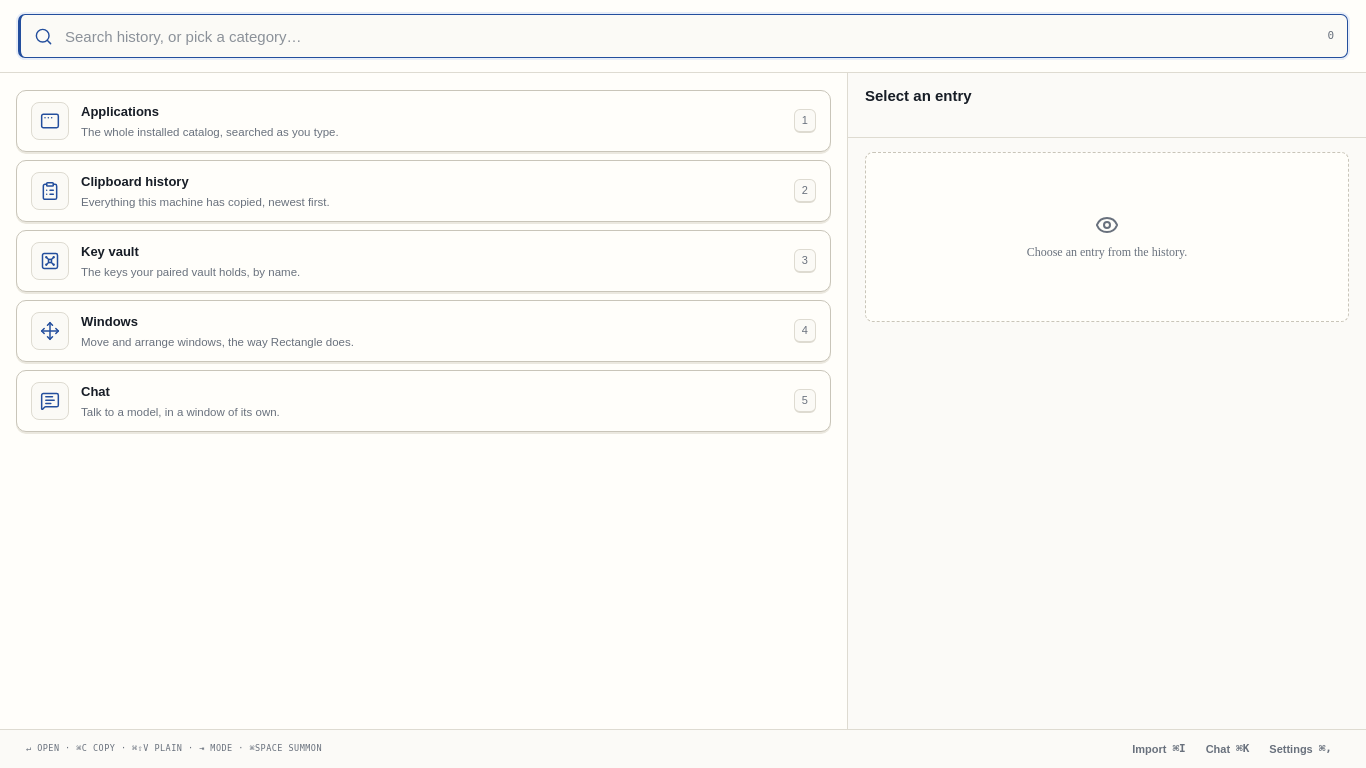
it: the unified palette › opens on its categories, and typing means the history
Typing from home enters the history with the query already carried.
Type "project note" into the search field. click: (685, 36)
box: 65,15 -> 1305,57
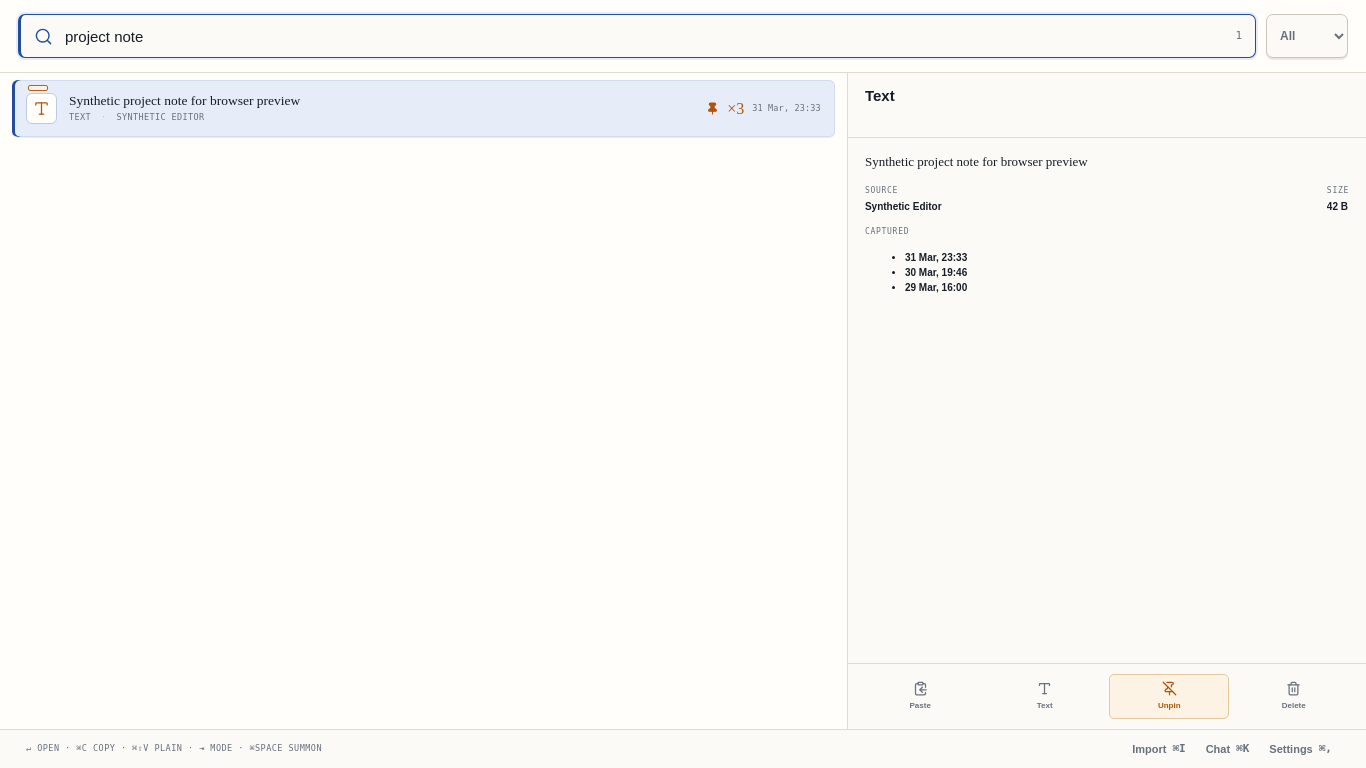
Expected: the option is shown, 12,80 -> 835,138
